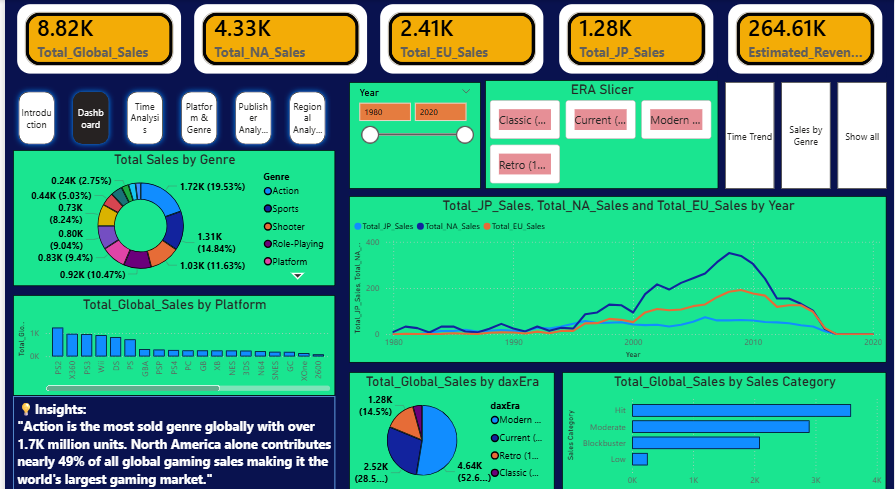

The page's visual inventory and layout, read from the dashboard file:
{"tool":"powerbi","page":{"name":"Dashboard","canvas":[1280,720],"ordinal":1},"visuals":[{"type":"cardVisual","fields":{"Data":["Fact_Sales.Total_Global_Sales"]},"box":[11.5,0,248.3,112.6],"z":0},{"type":"cardVisual","fields":{"Data":["Fact_Sales.Total_NA_Sales"]},"box":[266,0,261.6,112.6],"z":1000},{"type":"cardVisual","fields":{"Data":["Fact_Sales.Total_EU_Sales"]},"box":[534.3,0,247.1,112.9],"z":2000},{"type":"cardVisual","fields":{"Data":["Fact_Sales.Total_JP_Sales"]},"box":[791.4,0,234.3,112.9],"z":3000},{"type":"donutChart","title":"Total Sales by Genre","fields":{"Category":["Dim_Genre.Genre"],"Y":["Fact_Sales.Total_Global_Sales"]},"box":[11.5,216,463.7,195.8],"z":4000},{"type":"columnChart","fields":{"Category":["Fact_Sales.Platform"],"Y":["Fact_Sales.Total_Global_Sales"]},"box":[11.5,424.8,463.7,145.4],"z":5000},{"type":"pieChart","fields":{"Category":["Fact_Sales.daxEra"],"Y":["Fact_Sales.Total_Global_Sales"]},"box":[495.5,535.9,295.6,174.7],"z":6000},{"type":"advancedSlicerVisual","title":"ERA Slicer","fields":{"Values":["Fact_Sales.daxEra"]},"box":[691.2,115.2,335.5,157],"z":7000},{"type":"slicer","fields":{"Values":["Dim_Calendar.Year"]},"box":[495.4,118.1,190.1,154.1],"z":8000},{"type":"cardVisual","fields":{"Data":["Fact_Sales.Estimated_Revenue_USD"]},"box":[1035.7,0,234.3,112.9],"z":9000},{"type":"clusteredBarChart","fields":{"Category":["Fact_Sales.Sales Category"],"Y":["Fact_Sales.Total_Global_Sales"]},"box":[802.5,535.6,467.3,175.6],"z":10000},{"type":"pageNavigator","box":[11.8,124.3,463.6,92.4],"z":11000},{"type":"lineChart","fields":{"Category":["Dim_Calendar.Year"],"Y":["Fact_Sales.Total_JP_Sales","Fact_Sales.Total_NA_Sales","Fact_Sales.Total_EU_Sales"]},"box":[495.5,282.2,774.4,240.2],"z":12000},{"type":"bookmarkNavigator","box":[1036.7,118.2,233,154.2],"z":13000},{"type":"textbox","box":[12,570,464,150],"z":14000}]}

Visuals, with their boxes in screenshot pixels (x1, y1, x2, y2), scaled from the page's 1280x720 canvas onto the 895x489 screenshot:
cardVisual - Fact_Sales.Total_Global_Sales: region(8, 0, 182, 76)
cardVisual - Fact_Sales.Total_NA_Sales: region(186, 0, 369, 76)
cardVisual - Fact_Sales.Total_EU_Sales: region(374, 0, 546, 77)
cardVisual - Fact_Sales.Total_JP_Sales: region(553, 0, 717, 77)
"Total Sales by Genre" donutChart: region(8, 147, 332, 280)
columnChart - Fact_Sales.Platform x Fact_Sales.Total_Global_Sales: region(8, 289, 332, 387)
pieChart - Fact_Sales.daxEra x Fact_Sales.Total_Global_Sales: region(346, 364, 553, 483)
"ERA Slicer" advancedSlicerVisual: region(483, 78, 718, 185)
slicer - Dim_Calendar.Year: region(346, 80, 479, 185)
cardVisual - Fact_Sales.Estimated_Revenue_USD: region(724, 0, 888, 77)
clusteredBarChart - Fact_Sales.Sales Category x Fact_Sales.Total_Global_Sales: region(561, 364, 888, 483)
pageNavigator: region(8, 84, 332, 147)
lineChart - Dim_Calendar.Year x Fact_Sales.Total_JP_Sales: region(346, 192, 888, 355)
bookmarkNavigator: region(725, 80, 888, 185)
textbox: region(8, 387, 333, 488)
